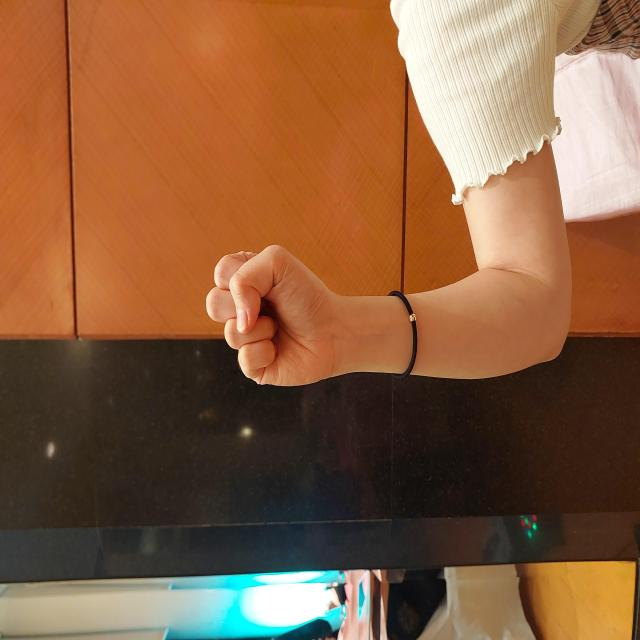S: (251, 204, 399, 337)
